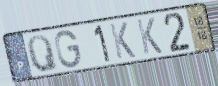1: (93, 24, 112, 64)
2: (163, 12, 193, 55)
G: (53, 29, 83, 70)
K: (134, 16, 164, 56), (107, 21, 137, 61)
Q: (26, 33, 60, 74)
